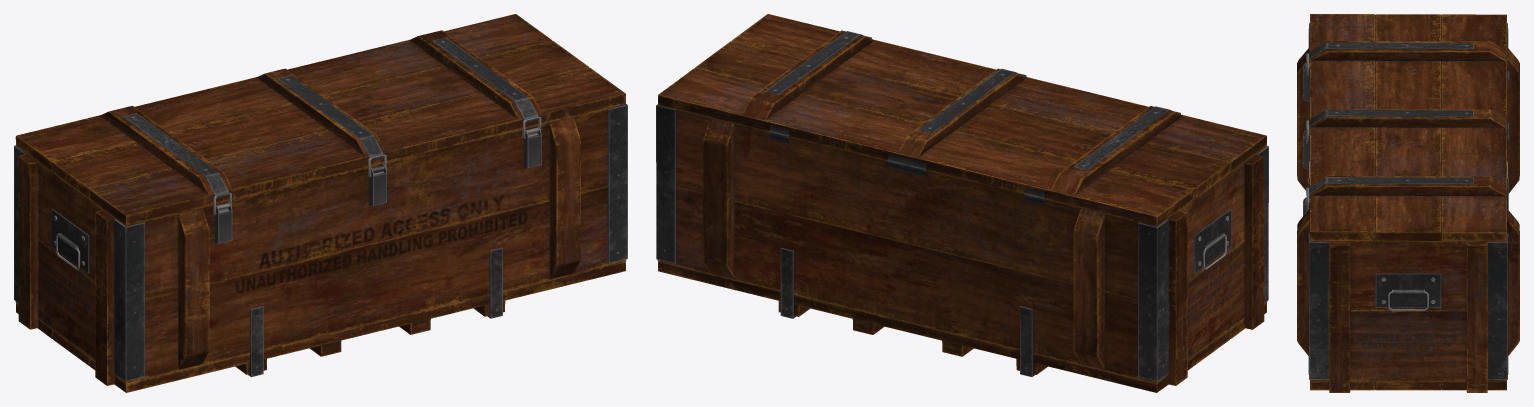
Rendered from wooden_military_crate.glb.
3 views of the same model, side by side, from view 1: azimuth 30°, elevation 25°; view 2: azimuth 150°, elevation 25°; view 3: azimuth 270°, elevation 25° (orthographic). The views are drawn at different scales.
Visible parts, largest first — view 1: wooden_military_crate, wooden_military_crate_lid; view 2: wooden_military_crate, wooden_military_crate_lid; view 3: wooden_military_crate_lid, wooden_military_crate.
Boxes of the visible parts, x1,y1,x2,y2 form: wooden_military_crate: [14, 103, 627, 392]; wooden_military_crate_lid: [15, 14, 625, 225]; wooden_military_crate: [656, 104, 1268, 392]; wooden_military_crate_lid: [658, 14, 1266, 225]; wooden_military_crate_lid: [1306, 14, 1509, 240]; wooden_military_crate: [1297, 23, 1519, 392].
Size of the model in its own units: 1.24 by 0.4645 by 0.5191.
Materials: 1 (1 with a texture image).
